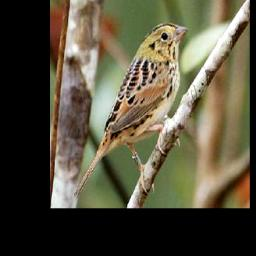Sparrow: (67, 19, 189, 201)
